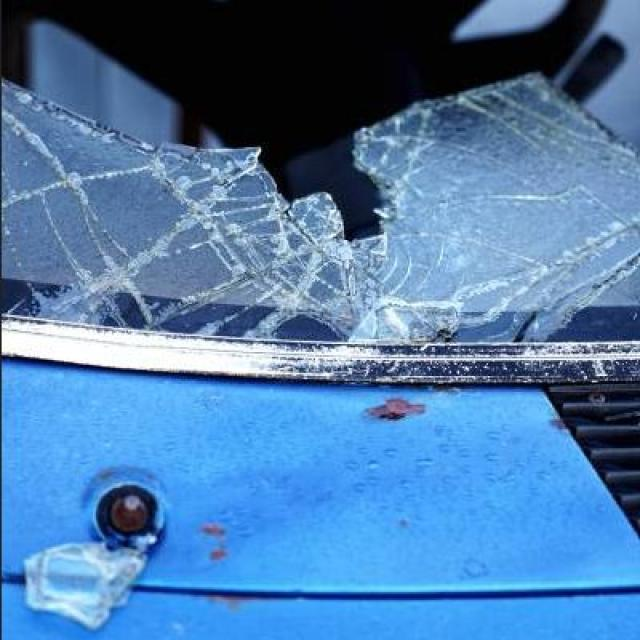electronic: (1, 76, 640, 347)
